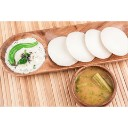idly: (47, 37, 82, 66), (100, 26, 128, 56), (86, 28, 113, 58), (68, 31, 95, 61)
